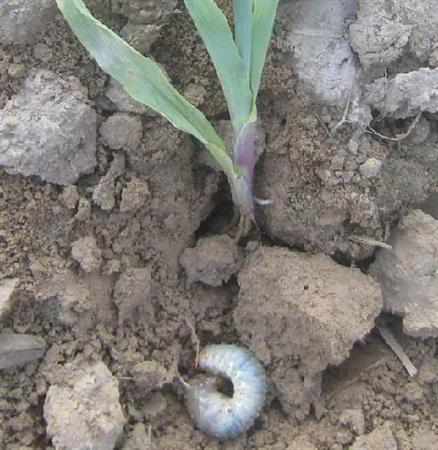grub: (187, 329, 274, 440)
